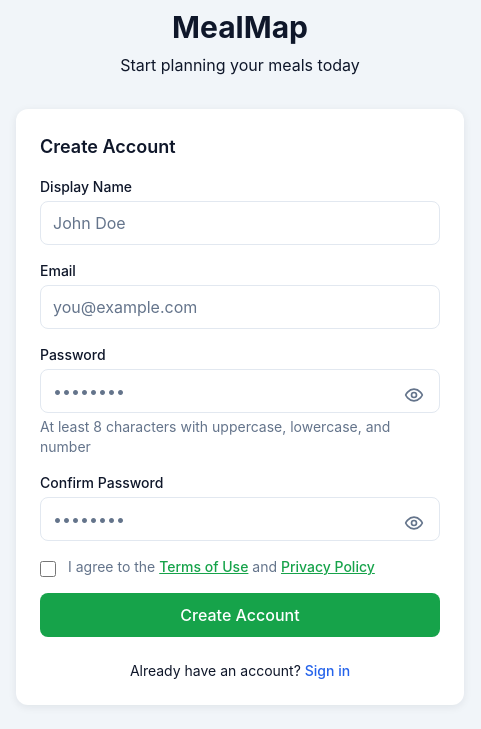
RegisterPage › displays validation errors for empty fields
Click the button "Create Account": (240, 615) [40,593,440,637]
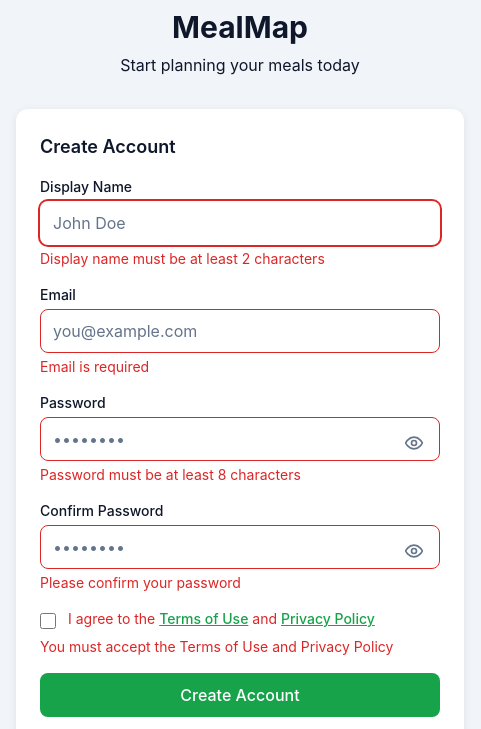
Expected: the text "Display name must be at least 2 characters" is shown, [40,250,325,267]
Expected: the text "Email is required" is shown, [40,358,149,375]
Expected: the text "Password must be at least 8 characters" is shown, [40,466,301,483]
